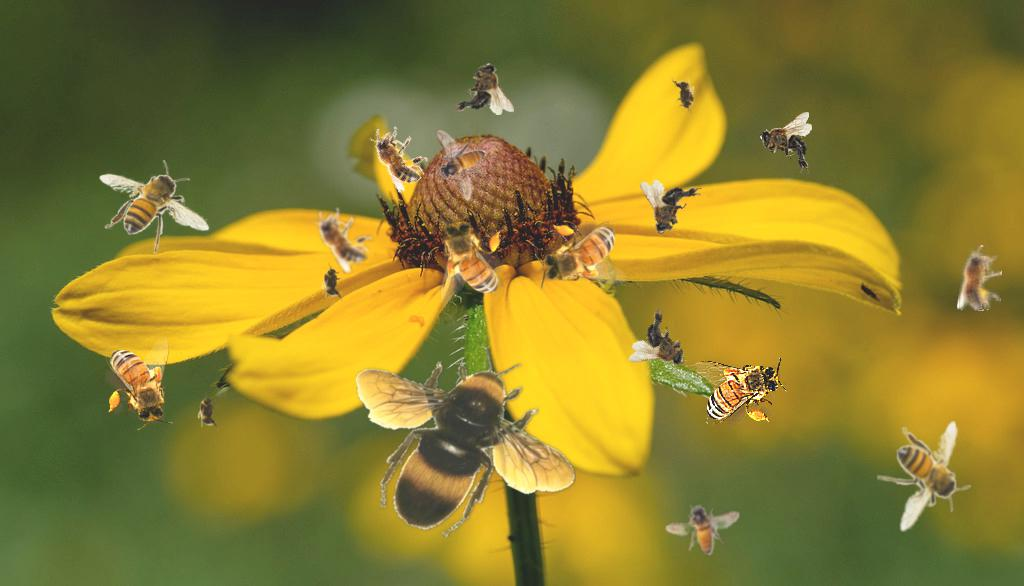Bee: (356, 346, 576, 537), (877, 421, 971, 532), (99, 160, 210, 254), (535, 221, 628, 289), (436, 213, 504, 306), (105, 337, 173, 430), (694, 357, 787, 425), (301, 197, 381, 276), (358, 115, 436, 196), (625, 304, 702, 384), (661, 496, 741, 561), (636, 178, 703, 238), (436, 130, 486, 201), (759, 112, 812, 174), (452, 62, 514, 115), (957, 245, 1002, 311), (670, 73, 700, 117), (321, 262, 343, 302), (197, 391, 219, 431)
